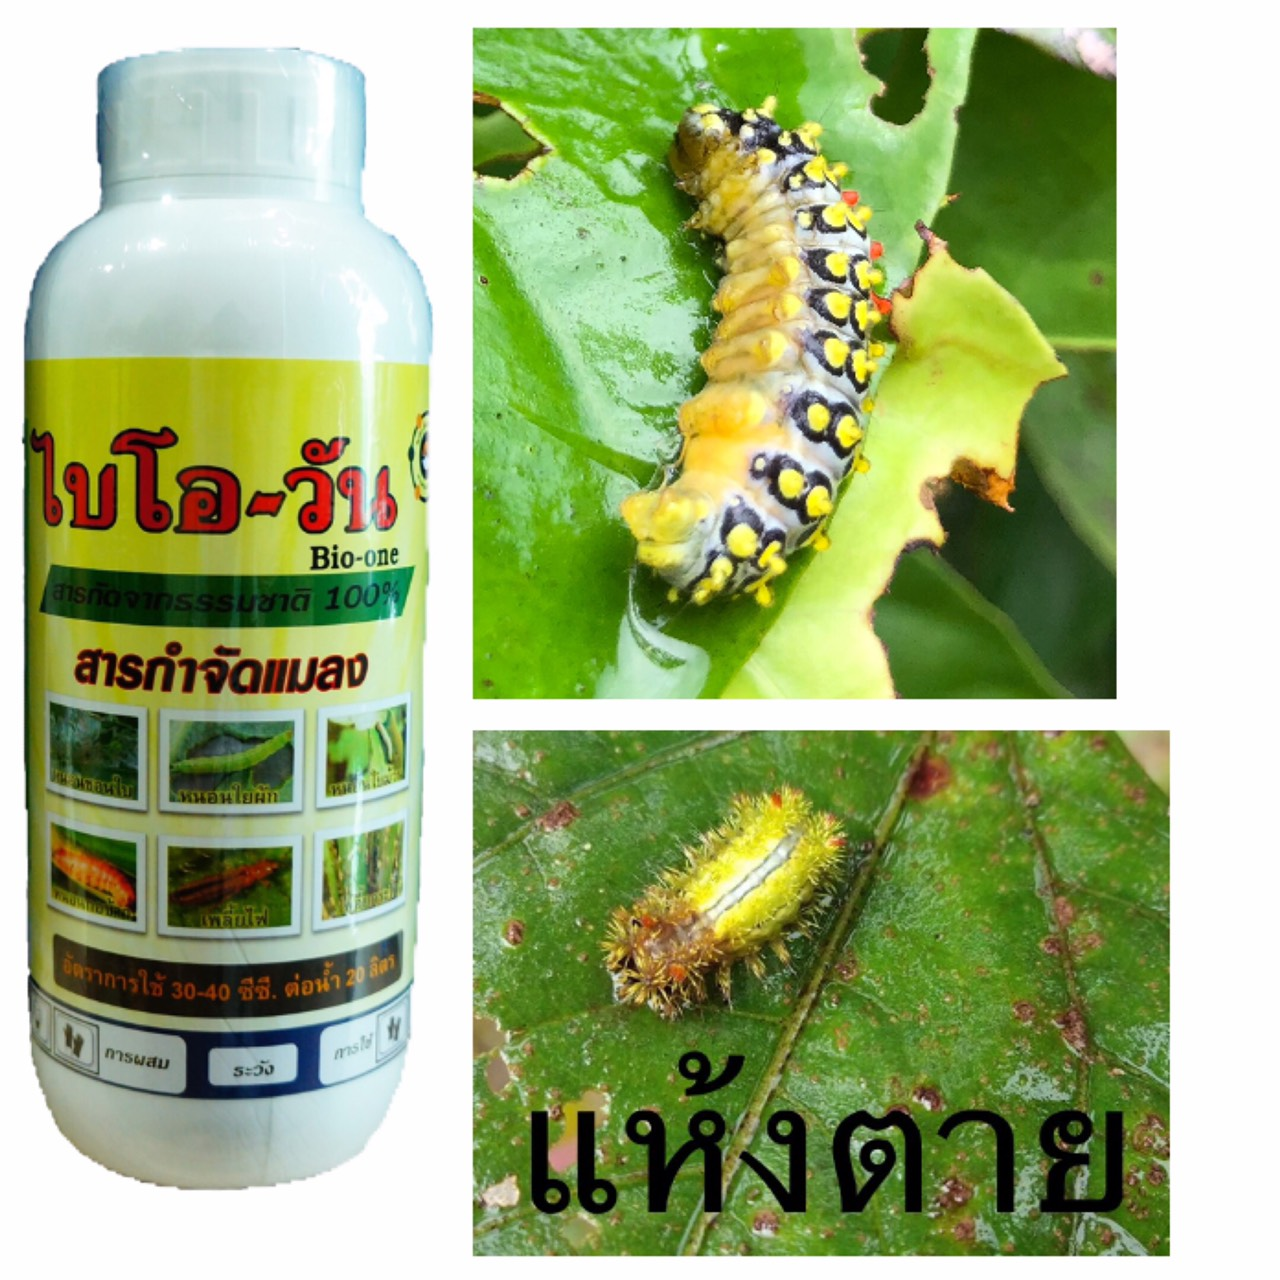Insecticide: (12, 40, 444, 1200)
